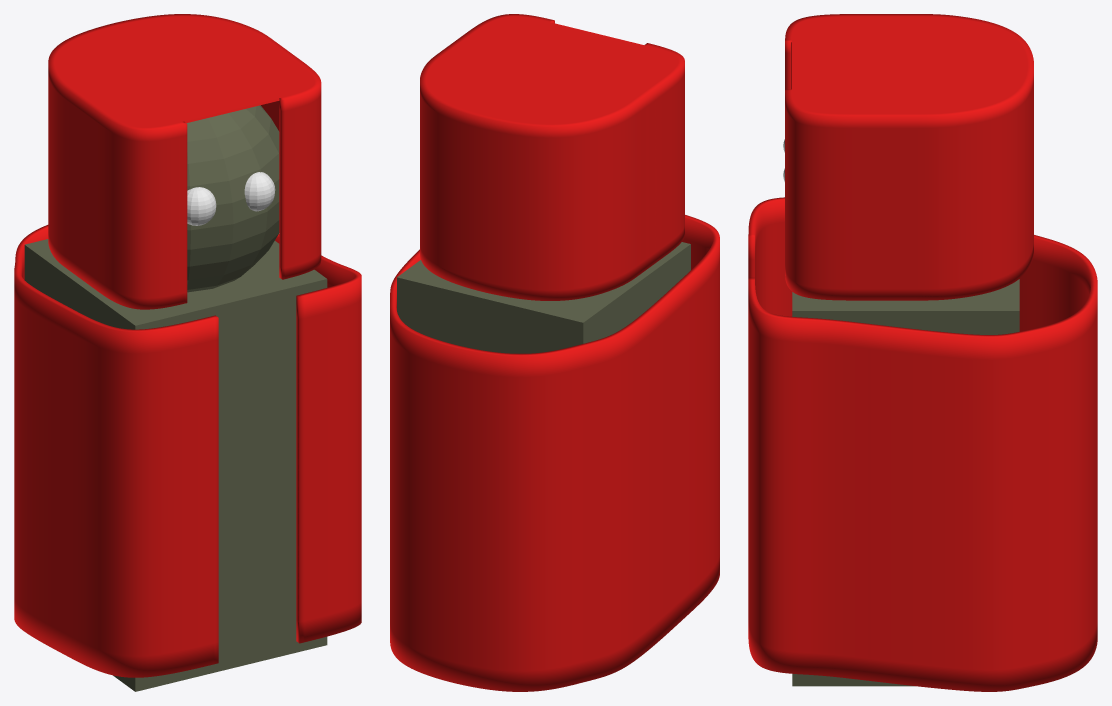
Rendered from Cultist.fbx.
3 views of the same model, side by side, from view 1: azimuth 30°, elevation 25°; view 2: azimuth 150°, elevation 25°; view 3: azimuth 270°, elevation 25° (orthographic). The views are drawn at different scales.
Parts seen in each view (by area): view 1: RobeBody; view 2: RobeBody; view 3: RobeBody.
Boxes of the visible parts, box(x1,y1,x2,y2) form: RobeBody: box(14, 14, 361, 691); RobeBody: box(390, 14, 719, 691); RobeBody: box(748, 14, 1097, 691).
Bounding box in the file's own units: 249 × 534 × 295.
